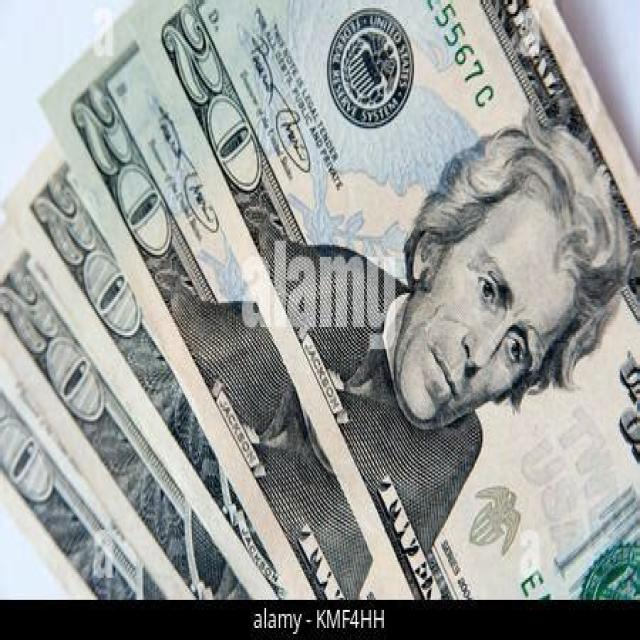Twenty: (132, 1, 640, 600)
